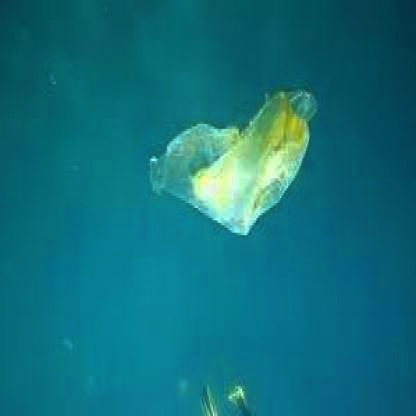pbag: (147, 86, 320, 238)
